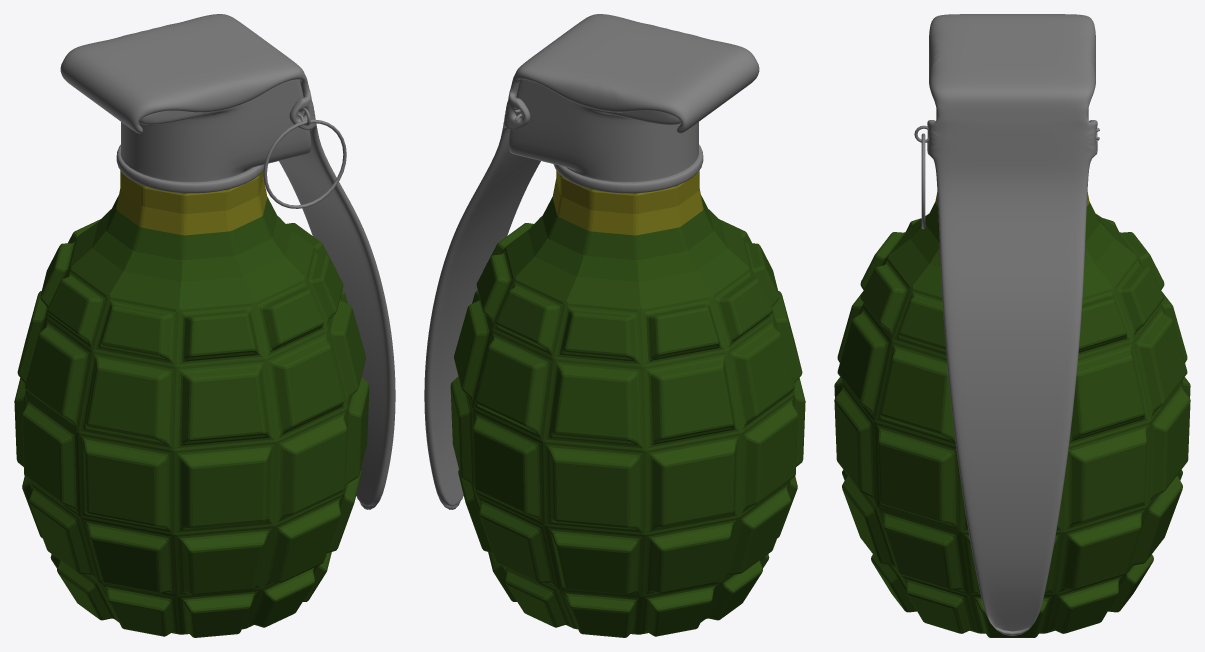
Rendered from uploads_files_3733339_texturedgrenade.fbx.
3 renders of one model, left to right at view 1: azimuth 30°, elevation 25°; view 2: azimuth 150°, elevation 25°; view 3: azimuth 270°, elevation 25°, orthographic.
Parts seen in each view (by area): view 1: body, handle, fuse, safety pin circle; view 2: body, handle, fuse; view 3: body, handle.
Boxes of the visible parts, left/top/right/bottom form: body: left=14, top=170, right=369, bottom=637; handle: left=60, top=14, right=395, bottom=509; fuse: left=116, top=79, right=311, bottom=193; safety pin circle: left=263, top=119, right=346, bottom=208; body: left=450, top=170, right=805, bottom=637; handle: left=424, top=14, right=759, bottom=509; fuse: left=508, top=79, right=703, bottom=193; body: left=834, top=192, right=1190, bottom=637; handle: left=927, top=14, right=1097, bottom=635.
Bounding box in the file's own units: 264 × 404 × 242.
